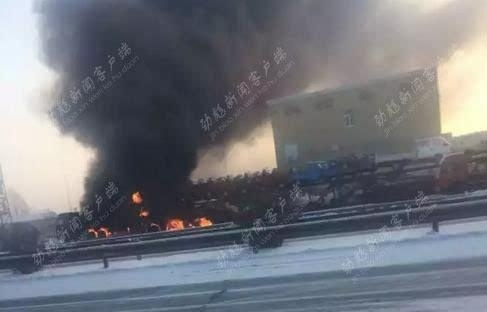fire: (164, 214, 212, 229), (87, 224, 113, 238)
